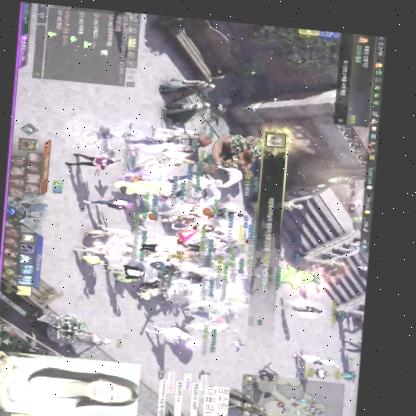streamer: (0, 351, 147, 416)
